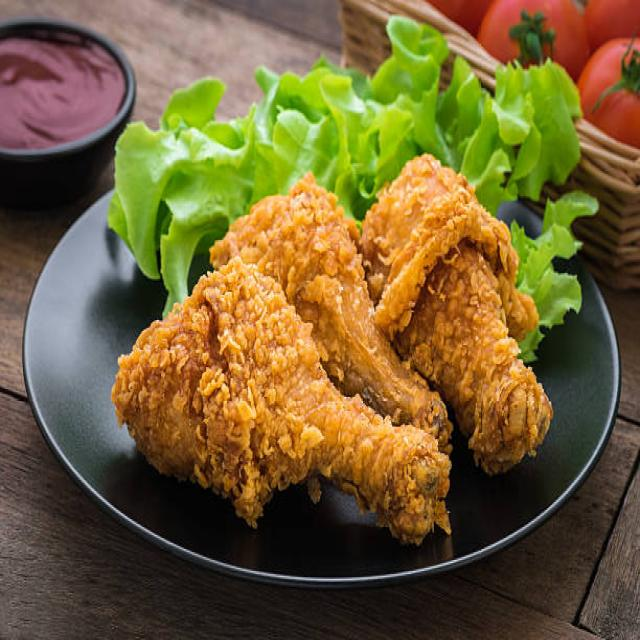Frango: (113, 144, 555, 551)
